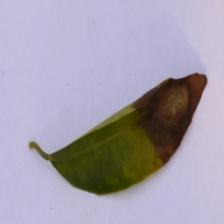black spot: (126, 66, 216, 172)
